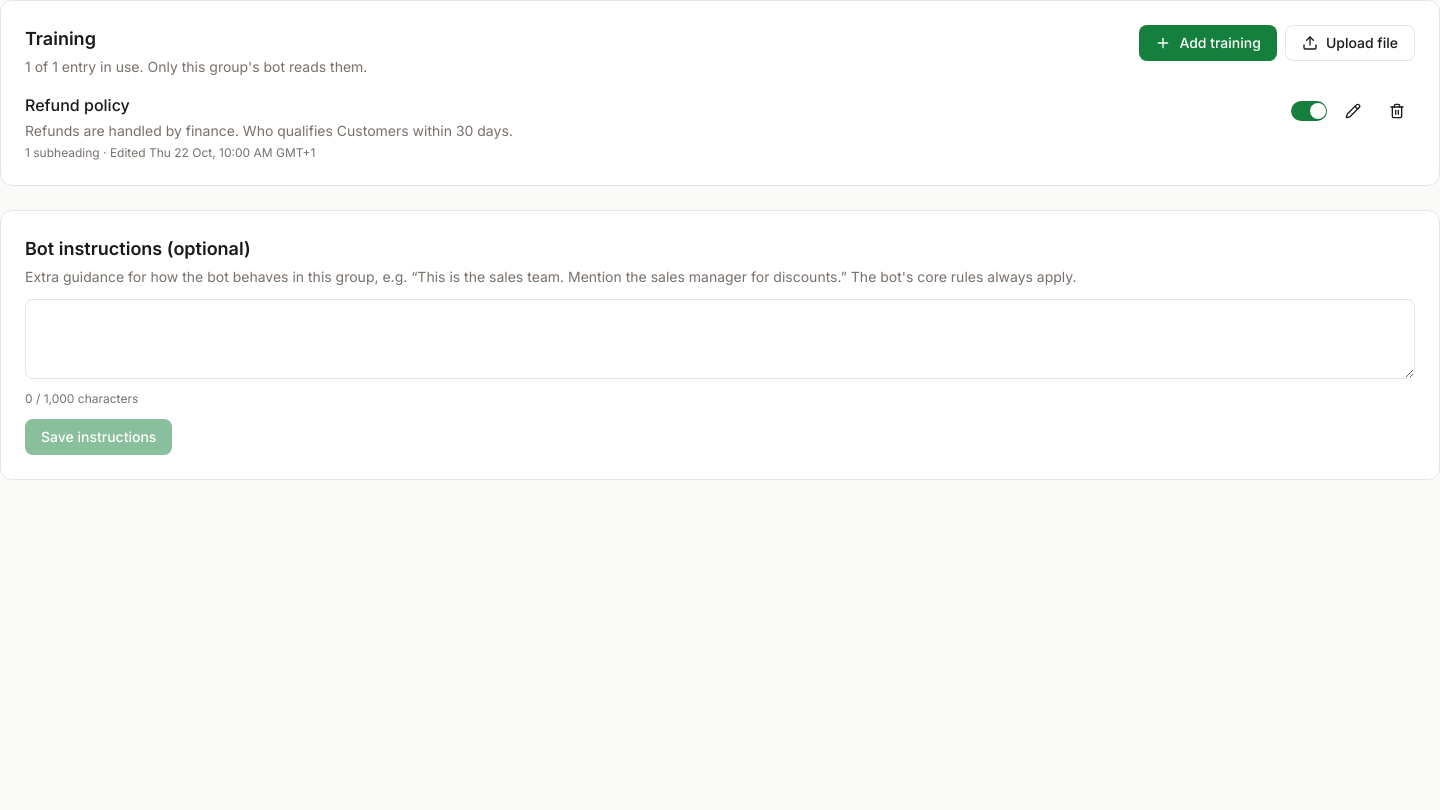
it: TrainTab › asks before deleting
What coordinates should you click on to do the following:
click the button named "Delete “Refund policy”"
I would click on:
 (1397, 111)
Its box is x1=1379 y1=93 x2=1415 y2=129.
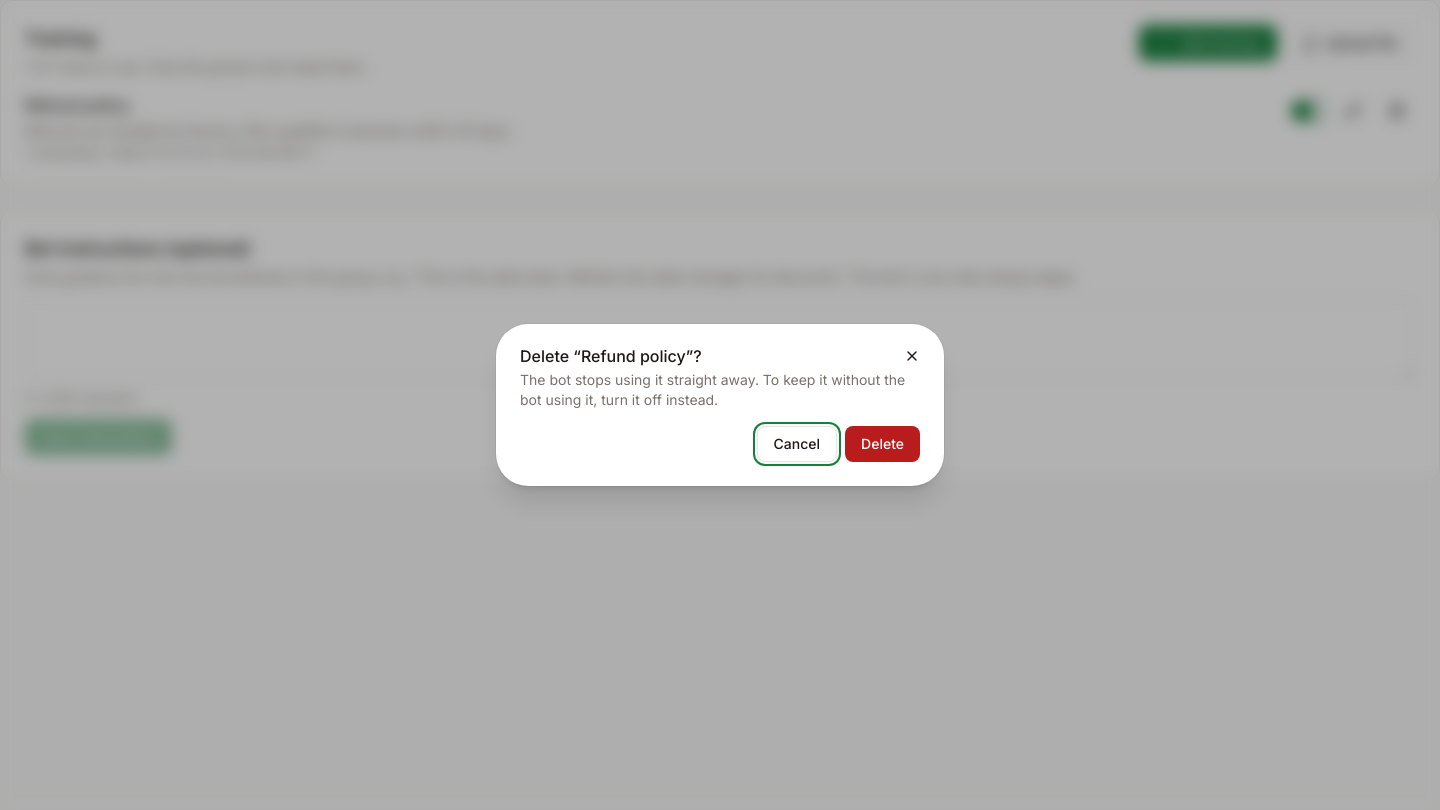
Result: the heading "Delete “Refund policy”?" is shown at x1=520 y1=346 x2=702 y2=366
